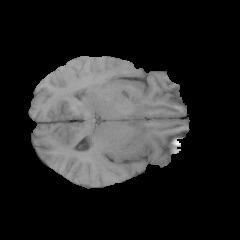glioma: (72, 79, 142, 123)
